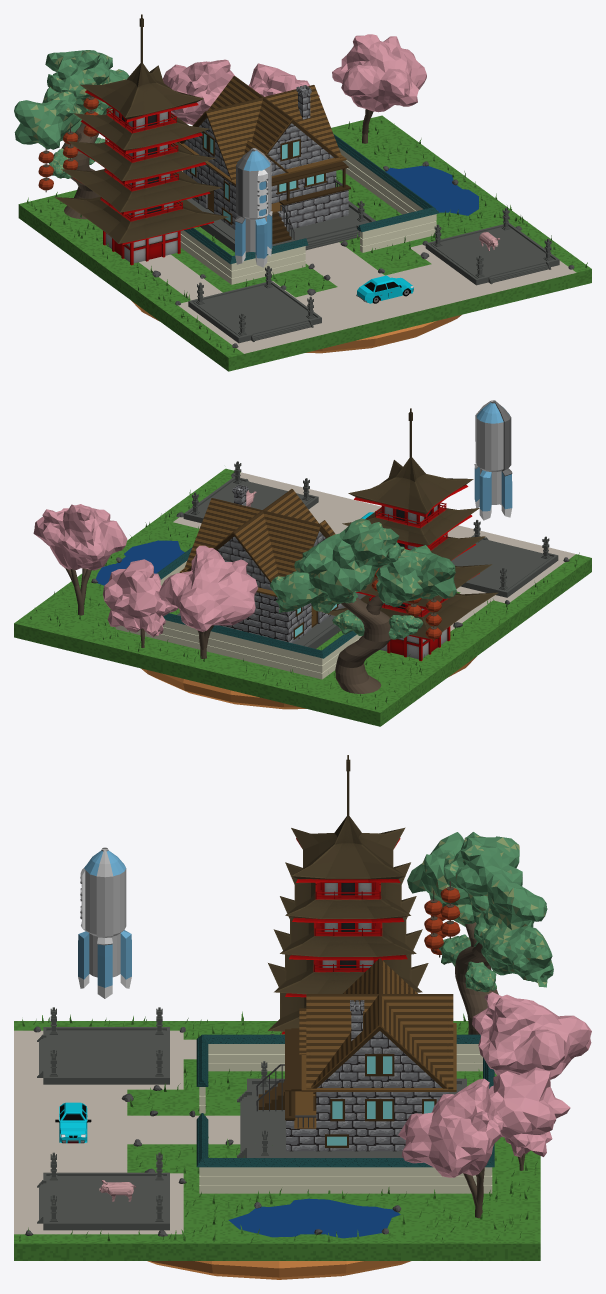
The picture shows the model from 3 angles, top to bottom: view 1: azimuth 30°, elevation 25°; view 2: azimuth 150°, elevation 25°; view 3: azimuth 270°, elevation 25°; orthographic projection. The views are drawn at different scales.
Parts seen in each view (by area): view 1: Cube.005, Cube.586, OBJRANDOM_ROCKETSHIP, UNDERGROUND_PIZZA, VEHICLES_CAR; view 2: Cube.005, Cube.586, OBJRANDOM_ROCKETSHIP, UNDERGROUND_PIZZA; view 3: Cube.005, Cube.586, OBJRANDOM_ROCKETSHIP, UNDERGROUND_PIZZA, VEHICLES_CAR.
Boxes of the visible parts, x1,y1,x2,y2 form: Cube.005: (14,14,591,371); Cube.586: (177,76,350,244); OBJRANDOM_ROCKETSHIP: (235,148,272,267); UNDERGROUND_PIZZA: (131,300,461,353); VEHICLES_CAR: (356,275,413,303); Cube.005: (14,408,591,726); Cube.586: (179,484,343,643); OBJRANDOM_ROCKETSHIP: (474,400,512,520); UNDERGROUND_PIZZA: (141,656,476,709); Cube.005: (14,755,591,1260); Cube.586: (256,958,456,1151); OBJRANDOM_ROCKETSHIP: (78,847,131,998); UNDERGROUND_PIZZA: (147,1261,410,1279); VEHICLES_CAR: (55,1102,91,1143).
Size of the model in its own units: 4528 by 2902 by 4389.
Materials: 45 (6 with a texture image).
